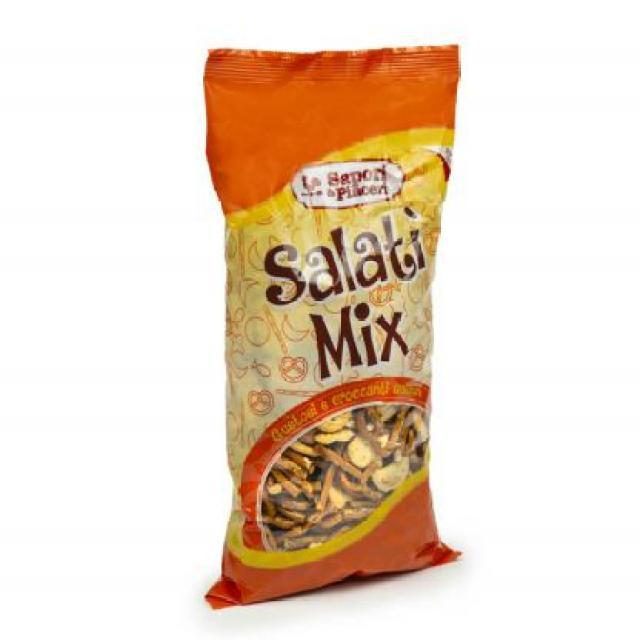Salatini: (193, 46, 470, 600)
